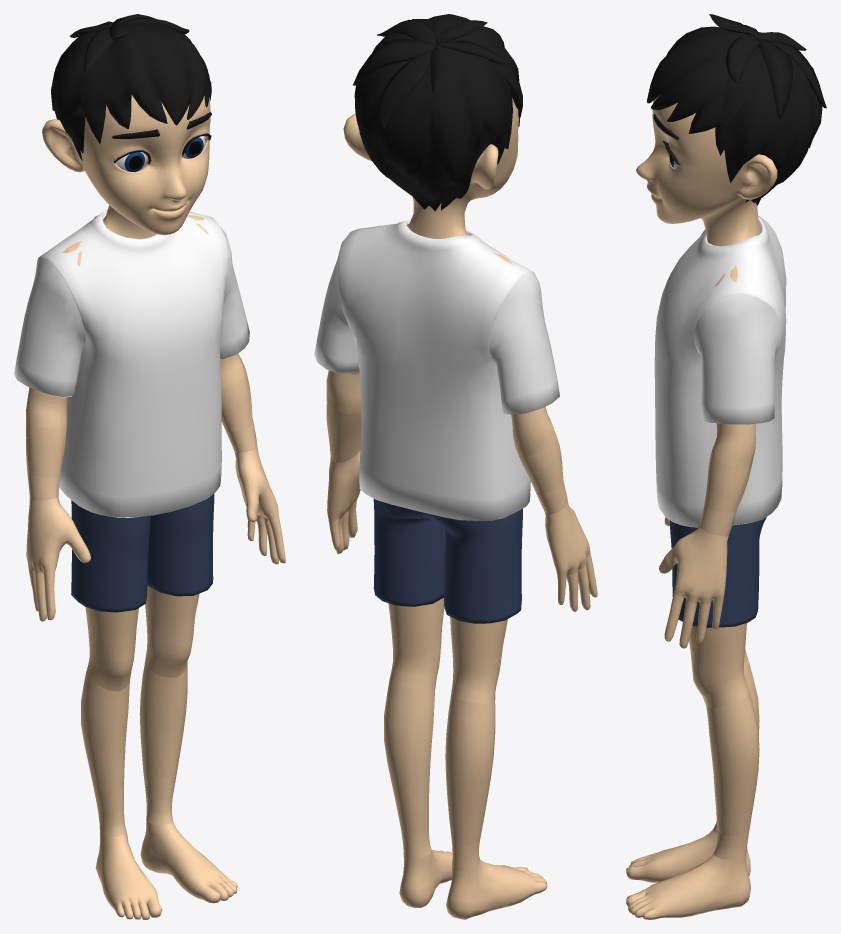
Rendered from test_boy_01.FBX.
3 views of the same model, side by side, from view 1: azimuth 30°, elevation 25°; view 2: azimuth 150°, elevation 25°; view 3: azimuth 270°, elevation 25° (orthographic). The views are drawn at different scales.
Visible parts, largest first — view 1: Boy_Body, t-shirt, hair, pants, Eyeballs, eyebrow; view 2: t-shirt, Boy_Body, hair, pants; view 3: Boy_Body, t-shirt, hair, pants.
Boxes of the visible parts, left/top/right/bottom form: Boy_Body: left=26, top=95, right=285, bottom=919; t-shirt: left=14, top=210, right=249, bottom=517; hair: left=51, top=14, right=211, bottom=160; pants: left=71, top=493, right=214, bottom=612; Eyeballs: left=116, top=136, right=205, bottom=171; eyebrow: left=112, top=112, right=211, bottom=163; t-shirt: left=314, top=220, right=559, bottom=520; Boy_Body: left=326, top=98, right=597, bottom=919; hair: left=353, top=14, right=522, bottom=211; pants: left=373, top=499, right=522, bottom=623; Boy_Body: left=626, top=95, right=777, bottom=919; t-shirt: left=654, top=215, right=786, bottom=527; hair: left=647, top=14, right=826, bottom=205; pants: left=670, top=517, right=766, bottom=627.
Bounding box in the file's own units: 50.13 × 170 × 35.72.
